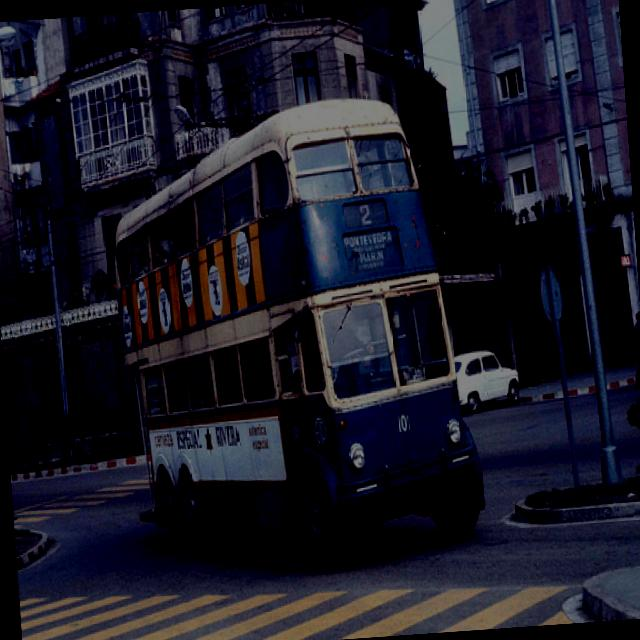Vehicle: (93, 80, 490, 588), (453, 346, 520, 414)
